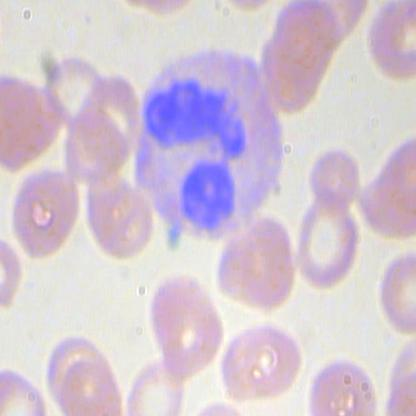RBC: (214, 214, 300, 311), (220, 316, 306, 408), (12, 156, 82, 260), (147, 279, 225, 371), (86, 168, 156, 260), (294, 196, 360, 290), (365, 0, 415, 91), (306, 355, 379, 415), (123, 358, 187, 416), (309, 143, 362, 209), (380, 245, 415, 339)
WBC: (134, 43, 289, 241)
